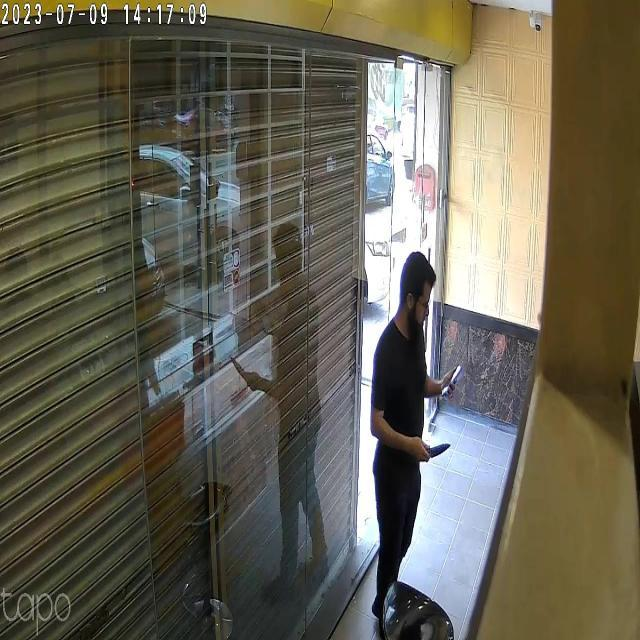Knife: (425, 434, 455, 464)
